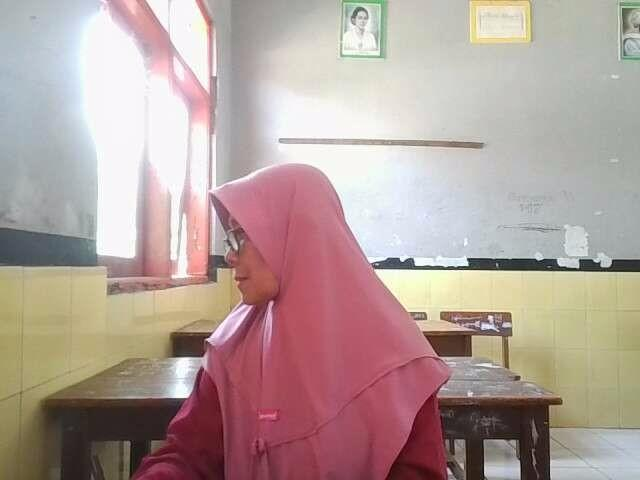cheating: (156, 146, 470, 480)
